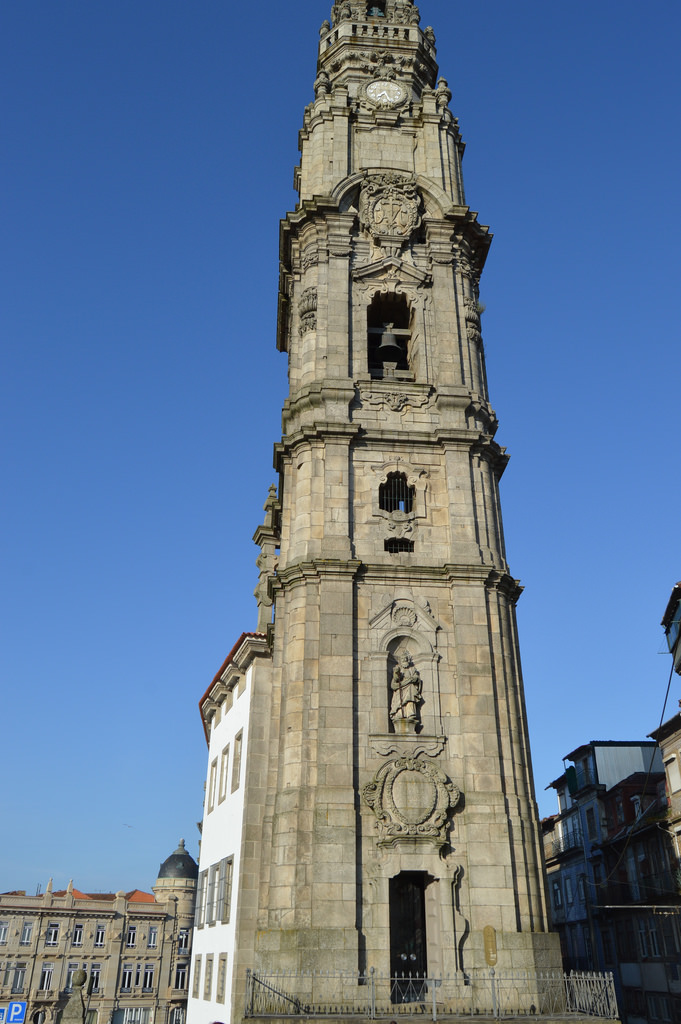clerigos: (253, 0, 563, 1023)
